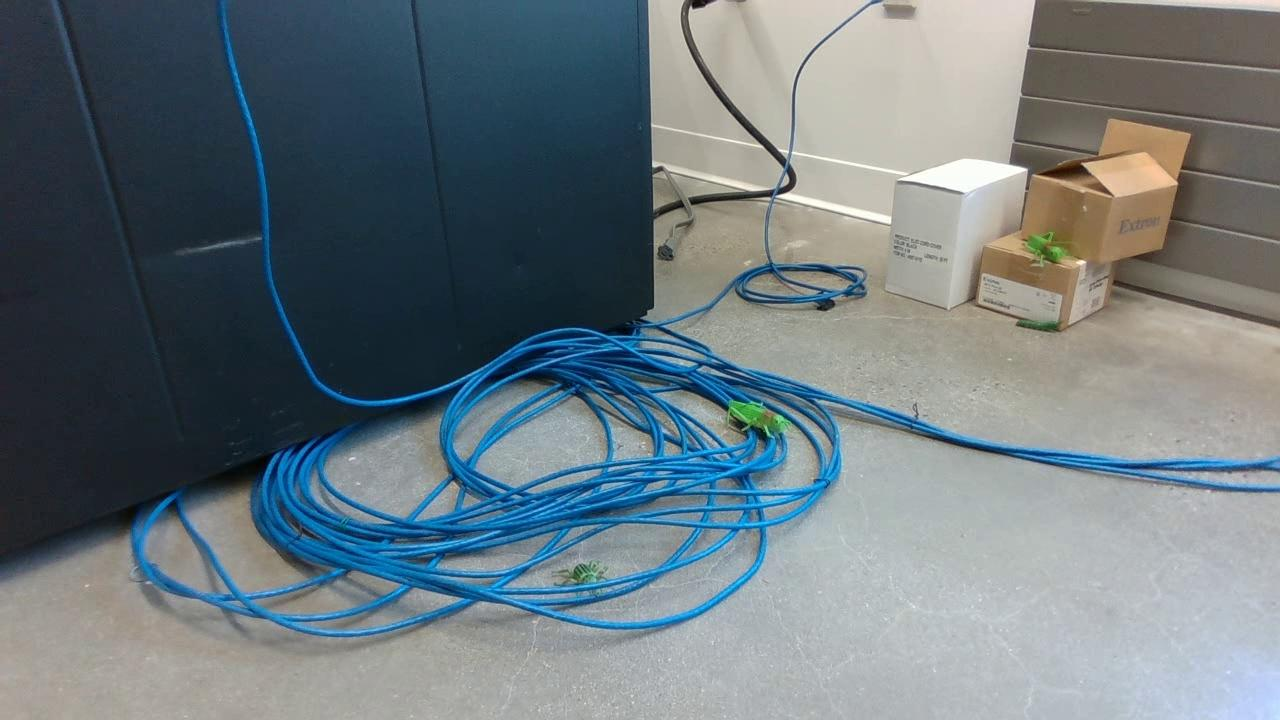grasshopper: (724, 396, 792, 443), (1025, 228, 1074, 267)
